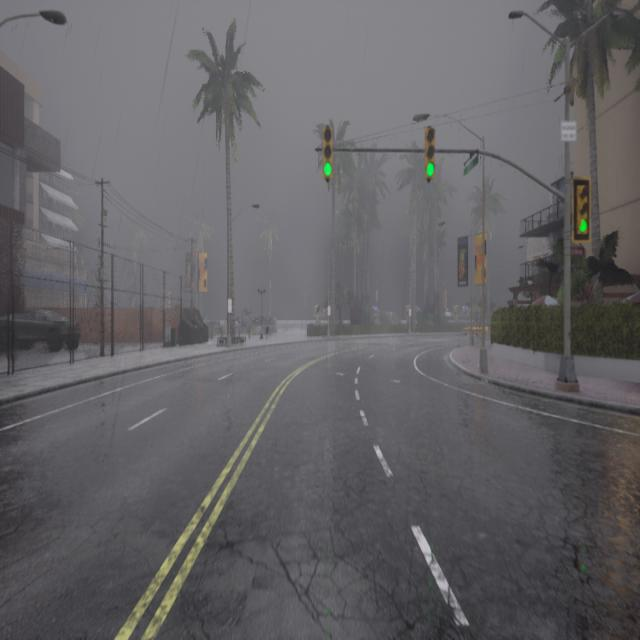9: (574, 178, 590, 242), (321, 126, 335, 180), (426, 124, 436, 182)
bien_hieu_lenh: (322, 157, 334, 180), (576, 215, 588, 236), (424, 159, 436, 178)
